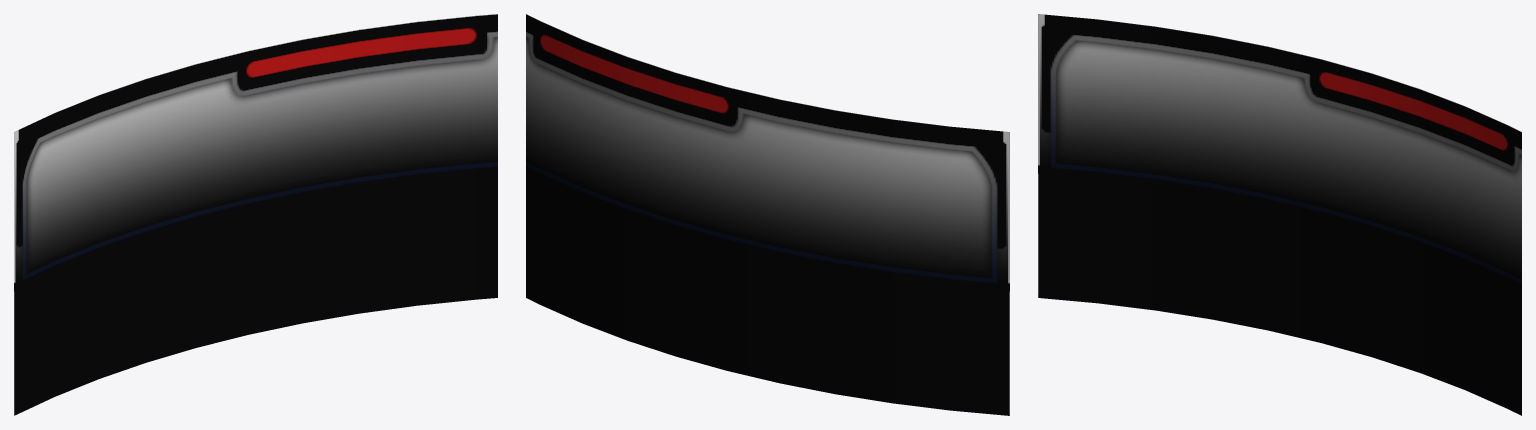
File: ProfileWindow.fbx
The picture shows the model from 3 angles, left to right: view 1: azimuth 30°, elevation 25°; view 2: azimuth 150°, elevation 25°; view 3: azimuth 330°, elevation 25°; orthographic projection.
Parts seen in each view (by area): view 1: Profile; view 2: Profile; view 3: Profile.
Part boxes in pixels (bbox=[...]): Profile: bbox=[14, 14, 497, 415]; Profile: bbox=[526, 14, 1009, 415]; Profile: bbox=[1038, 14, 1521, 415].
Bounding box in the file's own units: 3.36 × 1.88 × 0.2945.
